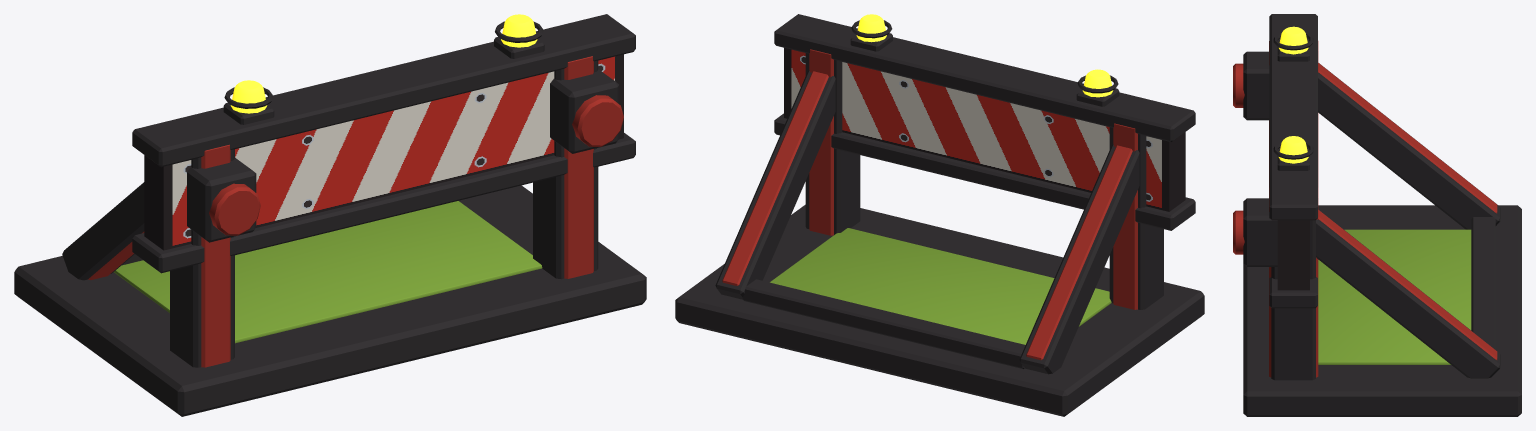
Rendered from valla_baja.glb.
3 renders of one model, left to right at view 1: azimuth 30°, elevation 25°; view 2: azimuth 150°, elevation 25°; view 3: azimuth 270°, elevation 25°, orthographic. The views are drawn at different scales.
Parts seen in each view (by area): view 1: Valla_Baja; view 2: Valla_Baja; view 3: Valla_Baja.
Boxes of the visible parts, left/top/right/bottom form: Valla_Baja: left=14, top=14, right=646, bottom=416; Valla_Baja: left=675, top=14, right=1204, bottom=416; Valla_Baja: left=1233, top=14, right=1521, bottom=416.
Size of the model in its own units: 2.26 by 1.3 by 1.43.
5 materials, 1 textured.
